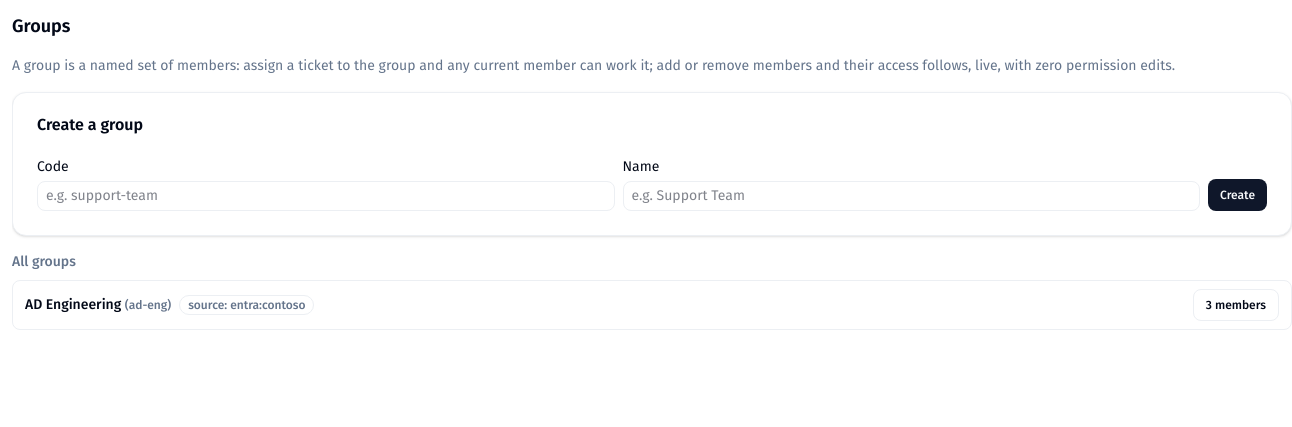
Test: AdminGroupsPage › renders an externally-sourced group read-only with a source badge, no add/remove controls
The image size is (1292, 427).
expect the text with test id "admin-group-source-badge-g2" reads "source: entra:contoso": met, box x1=179 y1=295 x2=314 y2=315
Click the button with test id "admin-group-expand-g2": (1236,305) x1=1193 y1=289 x2=1279 y2=321
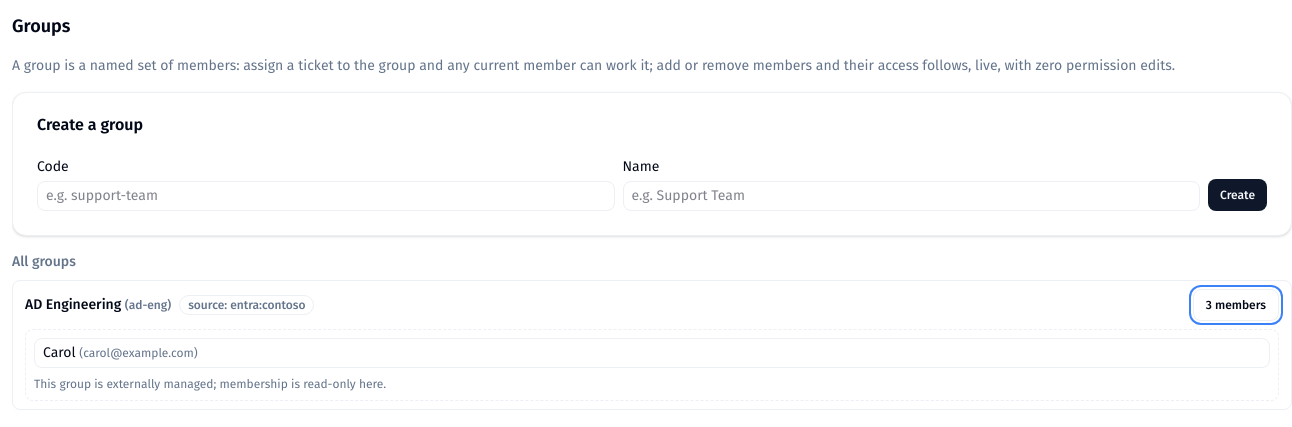
expect the text with test id "admin-group-readonly-g2" is shown: met, box x1=34 y1=377 x2=386 y2=391
